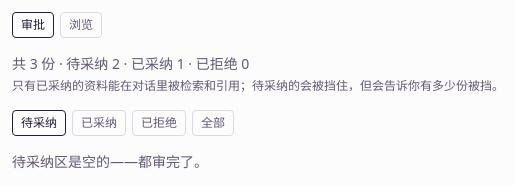
Scenario: TEST-448 统一浏览视图 (CR-20260915-knowledge-library-merge CP-2) › ③ 浏览列表读取失败给出提示
The width and height of the screenshot is (514, 186).
Click the button "浏览". click: {"x": 81, "y": 25}
box: [60, 12, 102, 38]
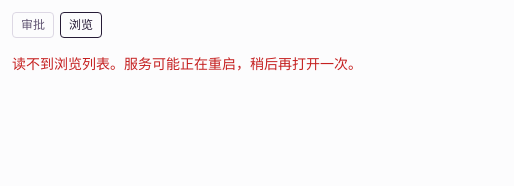
Expected: the message shows "读不到浏览列表", [12, 54, 362, 73]
